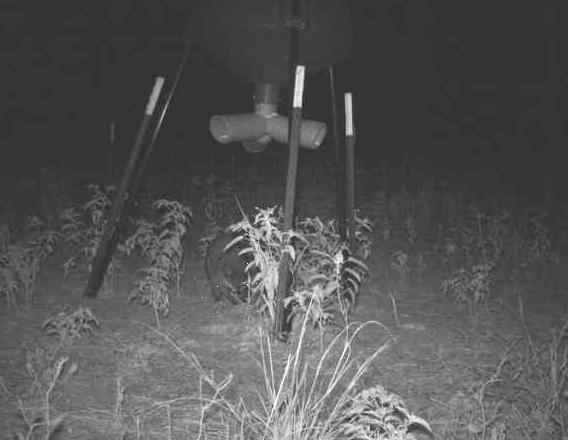Raccoon: (201, 229, 262, 313)
